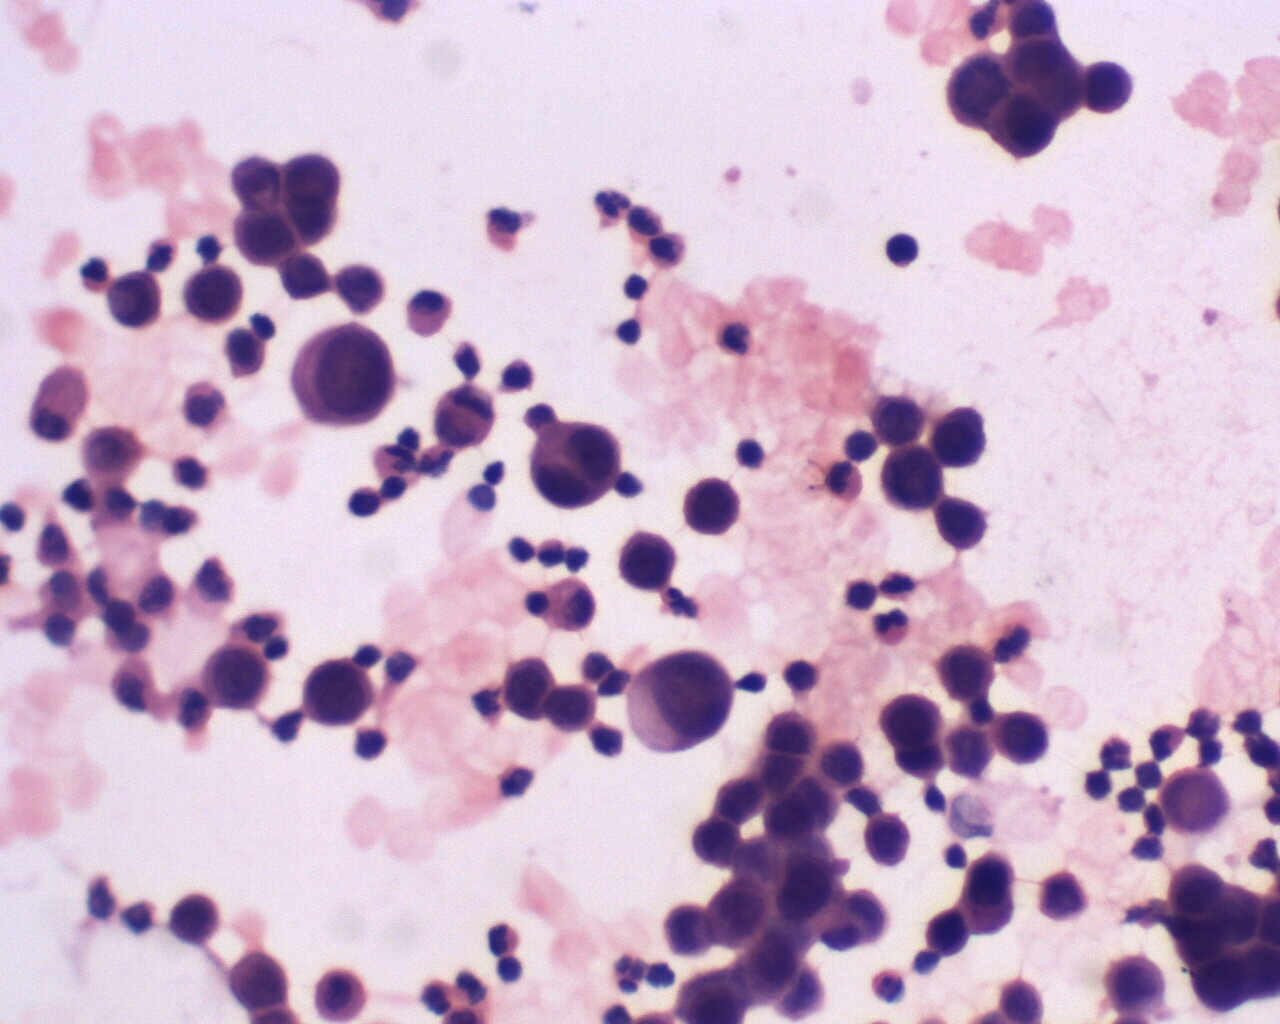ab: (630, 644, 735, 757), (293, 322, 397, 433), (528, 417, 625, 507), (878, 689, 947, 784), (939, 44, 1008, 133), (297, 657, 370, 736), (1159, 765, 1235, 837), (990, 84, 1057, 163), (874, 438, 941, 516), (933, 639, 1004, 713), (200, 639, 270, 714), (223, 947, 300, 1014), (709, 876, 771, 952), (230, 206, 300, 273), (616, 523, 681, 596), (925, 404, 995, 470), (497, 654, 560, 727), (102, 265, 166, 335), (990, 703, 1051, 771), (683, 472, 745, 539), (180, 266, 248, 325)
lymph: (879, 226, 926, 272)
meso: (541, 577, 605, 639), (400, 278, 459, 344), (309, 965, 371, 1024)
neutro: (591, 185, 634, 233), (866, 607, 911, 649)
